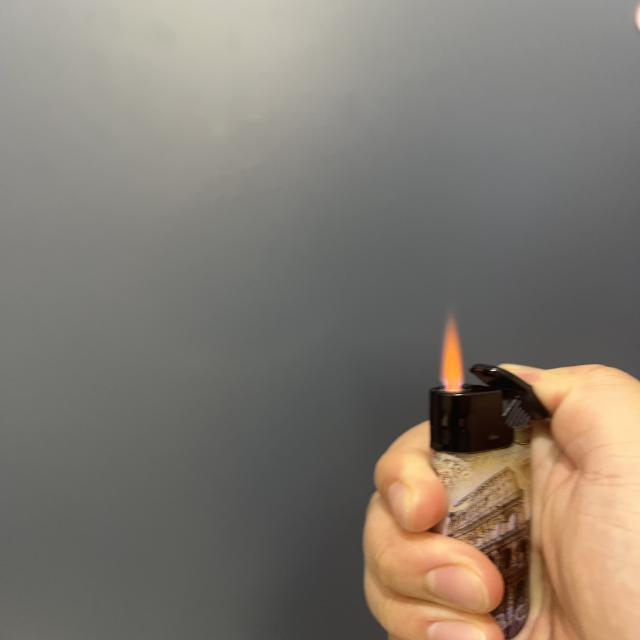fire: (438, 318, 468, 391)
